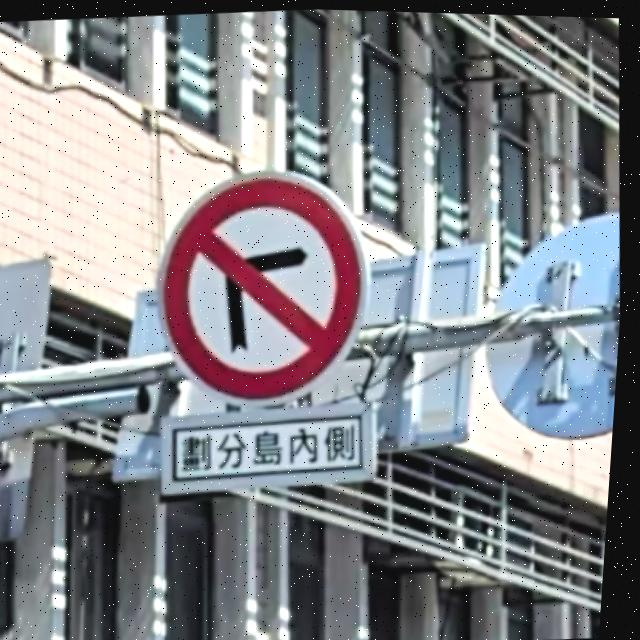noturnright: (167, 179, 362, 397)
